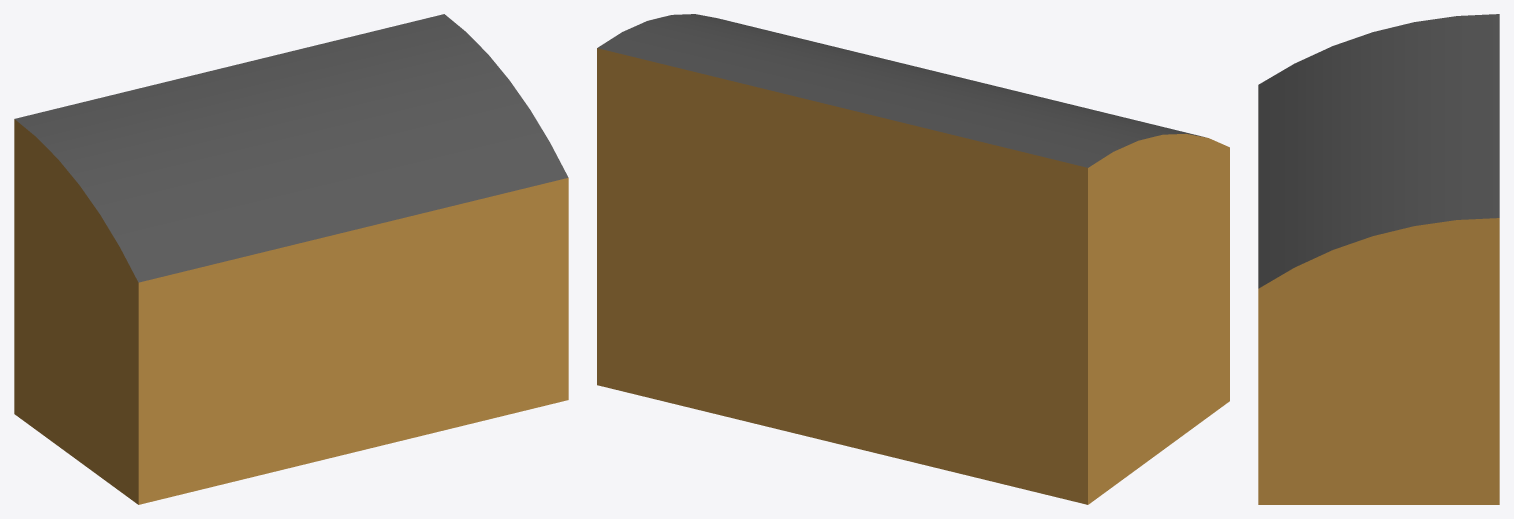
Rendered from Skate_Block_Wave_Low_Half_01.FBX.
The picture shows the model from 3 angles, left to right: view 1: azimuth 30°, elevation 25°; view 2: azimuth 150°, elevation 25°; view 3: azimuth 270°, elevation 25°; orthographic projection. The views are drawn at different scales.
Parts seen in each view (by area): view 1: Skate_Block_Wave_Low_Half_01; view 2: Skate_Block_Wave_Low_Half_01; view 3: Skate_Block_Wave_Low_Half_01.
Boxes of the visible parts, x1,y1,x2,y2 form: Skate_Block_Wave_Low_Half_01: (14,14,568,504); Skate_Block_Wave_Low_Half_01: (597,14,1229,504); Skate_Block_Wave_Low_Half_01: (1258,14,1499,504).
Size of the model in its own units: 3 by 1.97 by 1.5.
